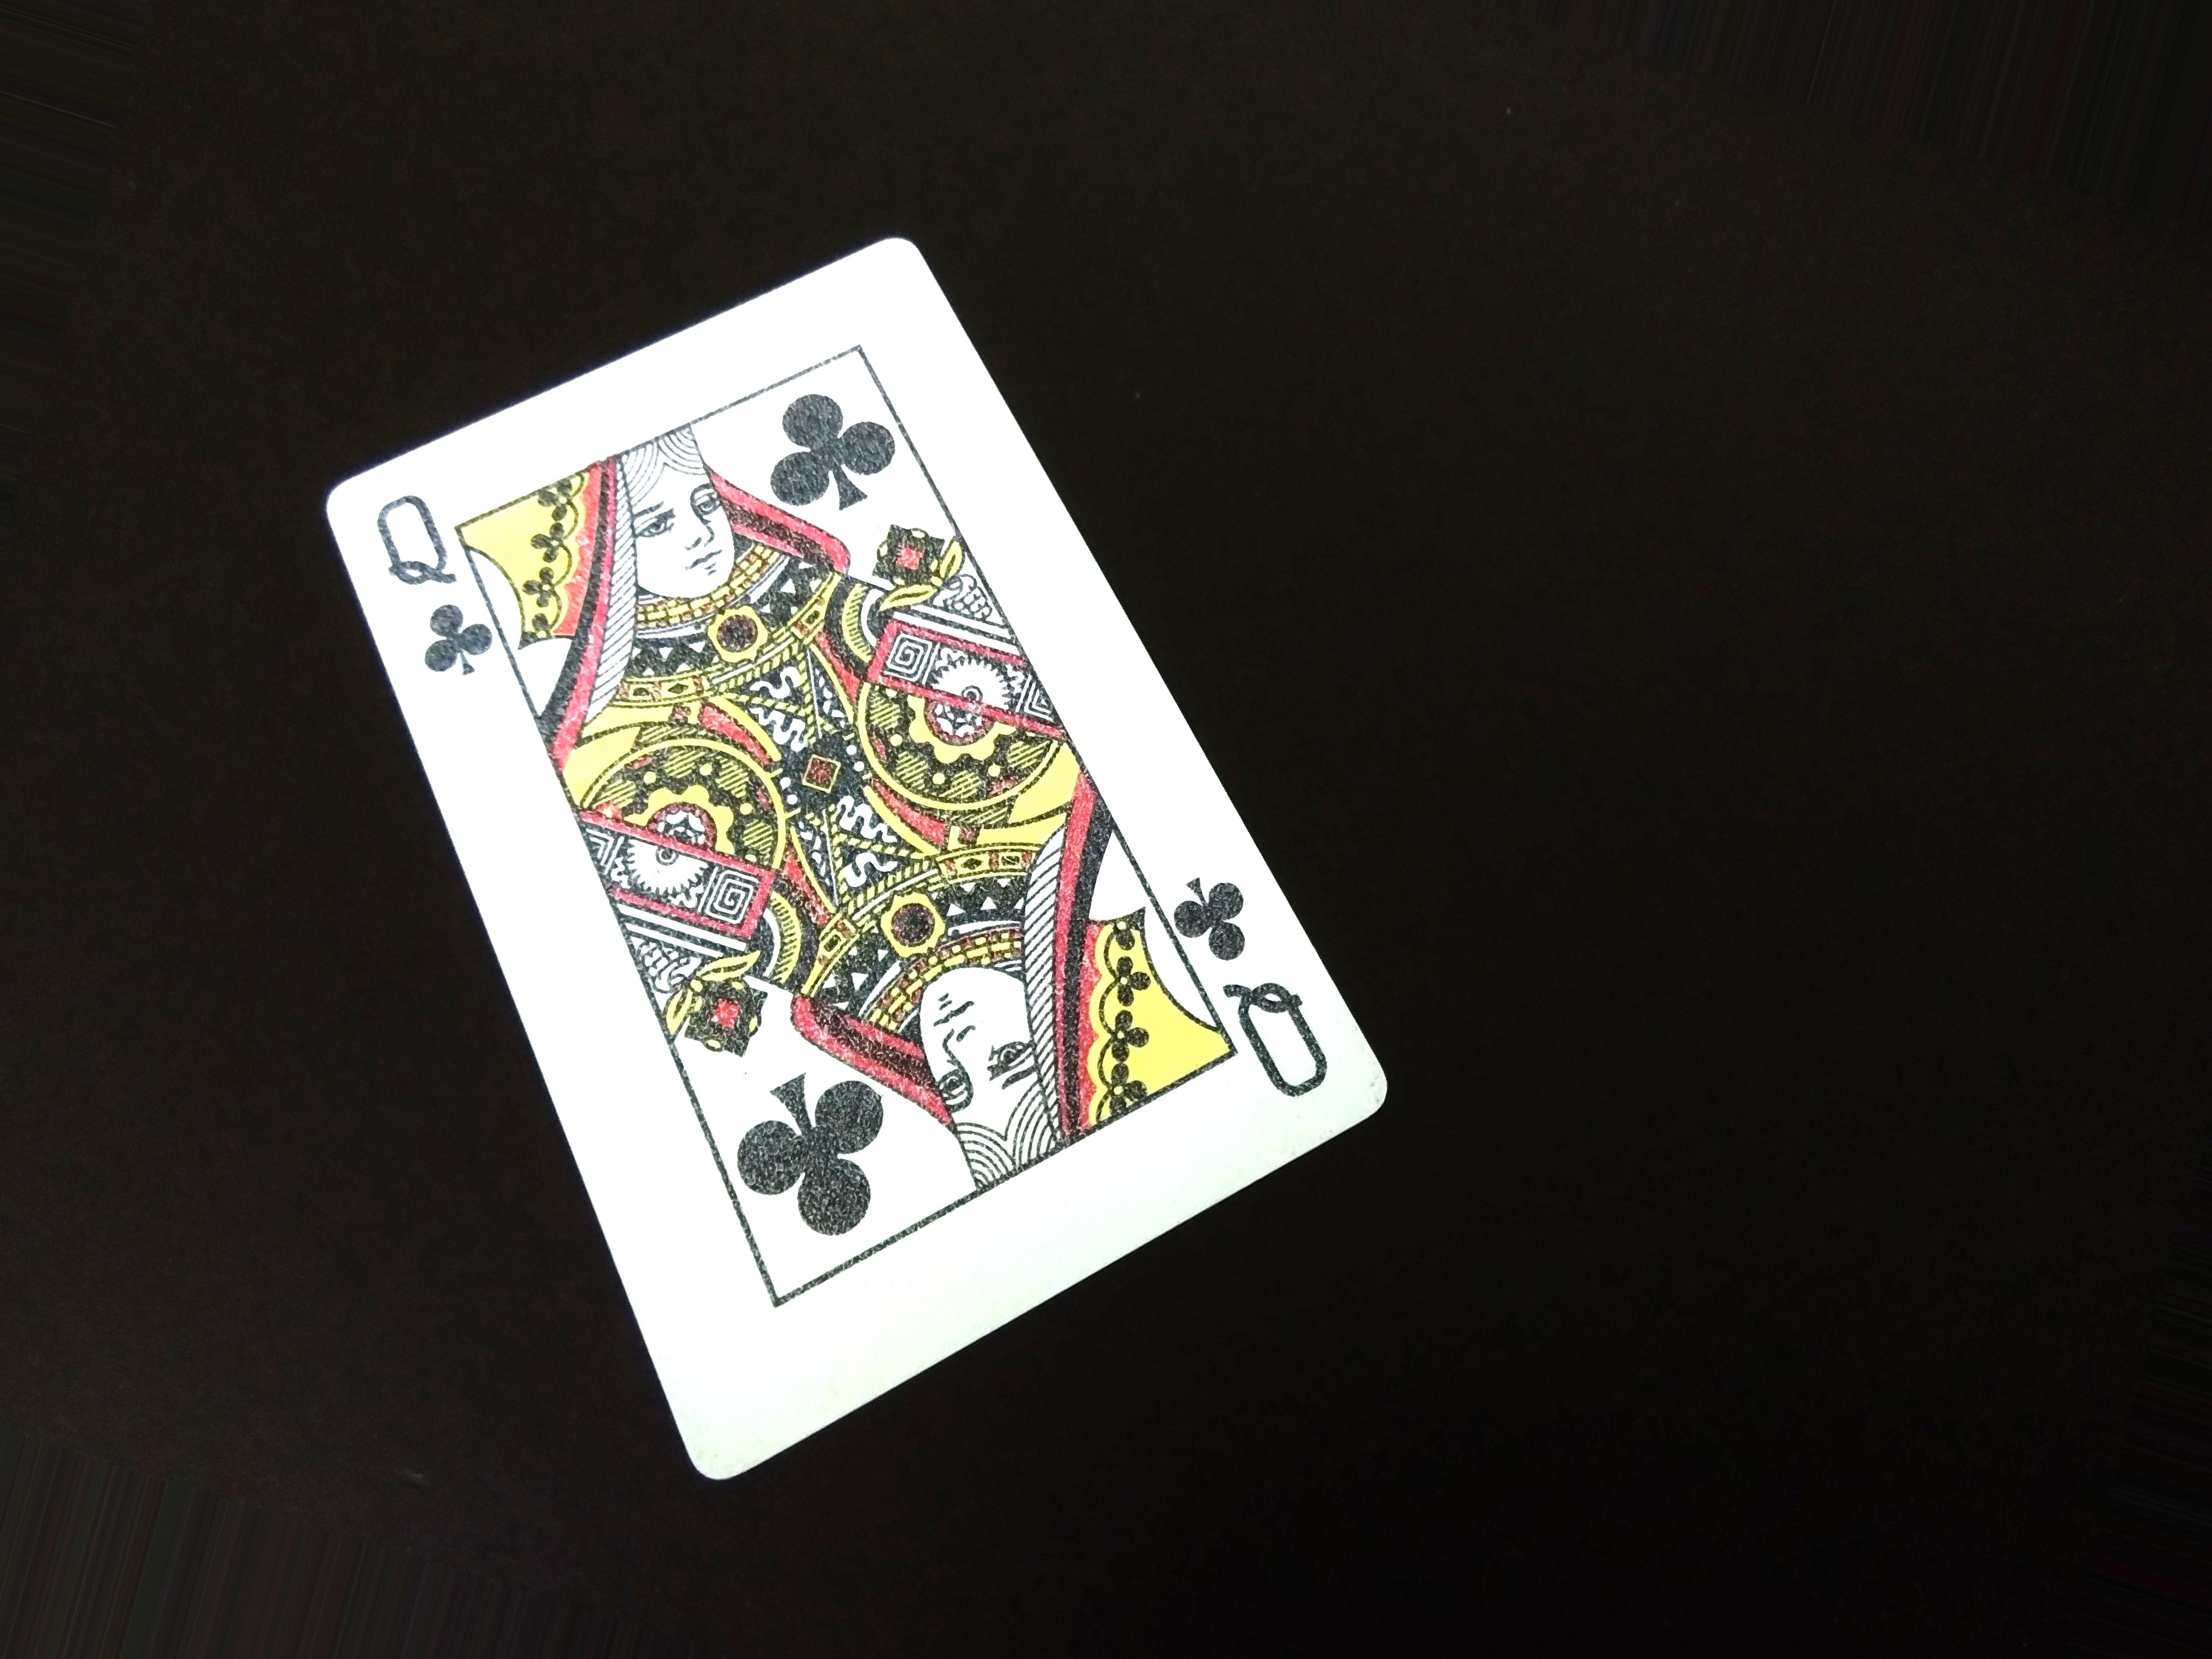QC: (364, 481, 495, 690)
